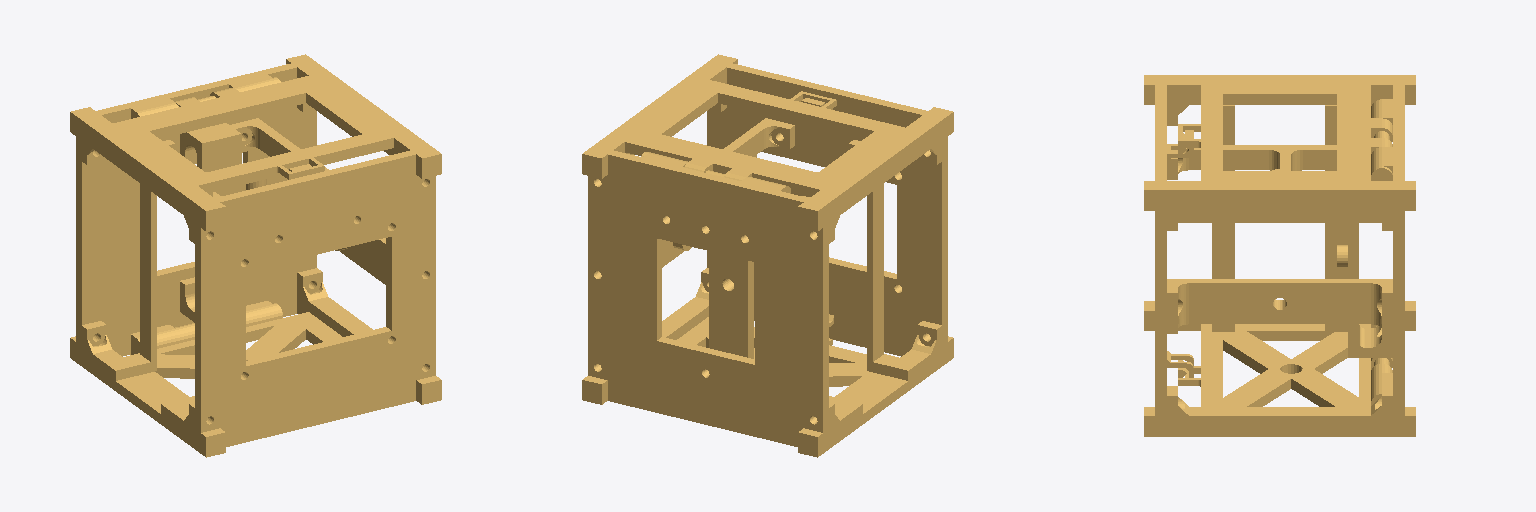
File: mohinhvetinhv2.obj
3 renders of one model, left to right at view 1: azimuth 30°, elevation 25°; view 2: azimuth 150°, elevation 25°; view 3: azimuth 270°, elevation 25°, orthographic.
Visible parts, largest first — view 1: _8, default, _5, _1, _2, _7, _10, _6, _11, _9; view 2: default, _8, _5, _1, _10, _7, _2, _6, _11, _9; view 3: _2, _9, _1, _5, _7, _6, _11, default, _8, _10.
Part boxes in pixels (left/top/right/bottom): _8: left=195, top=150, right=435, bottom=446; default: left=76, top=63, right=316, bottom=356; _5: left=70, top=107, right=225, bottom=457; _1: left=113, top=76, right=393, bottom=192; _2: left=124, top=312, right=341, bottom=401; _7: left=286, top=54, right=441, bottom=178; _10: left=180, top=123, right=241, bottom=322; _6: left=297, top=268, right=441, bottom=404; _11: left=163, top=118, right=376, bottom=253; _9: left=335, top=238, right=415, bottom=299; default: left=588, top=150, right=828, bottom=446; _8: left=707, top=63, right=947, bottom=356; _5: left=798, top=107, right=953, bottom=457; _1: left=625, top=80, right=904, bottom=196; _10: left=686, top=205, right=753, bottom=398; _7: left=582, top=54, right=737, bottom=178; _2: left=677, top=317, right=888, bottom=401; _6: left=582, top=268, right=708, bottom=404; _11: left=647, top=118, right=860, bottom=253; _9: left=608, top=240, right=691, bottom=299; _2: left=1178, top=324, right=1392, bottom=406; _9: left=1167, top=279, right=1392, bottom=333; _1: left=1178, top=85, right=1392, bottom=180; _5: left=1144, top=75, right=1415, bottom=331; _7: left=1144, top=181, right=1415, bottom=230; _6: left=1144, top=386, right=1415, bottom=436; _11: left=1167, top=145, right=1381, bottom=222; default: left=1371, top=85, right=1404, bottom=415; _8: left=1155, top=85, right=1193, bottom=415; _10: left=1337, top=223, right=1392, bottom=357.
Size of the model in its own units: 12 by 12 by 12.